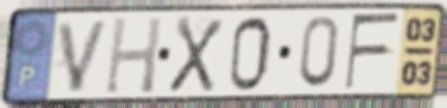0: (227, 13, 276, 93), (298, 15, 342, 90)
F: (343, 10, 403, 92)
H: (102, 15, 165, 96)
V: (55, 17, 112, 96)
X: (165, 15, 226, 95)
